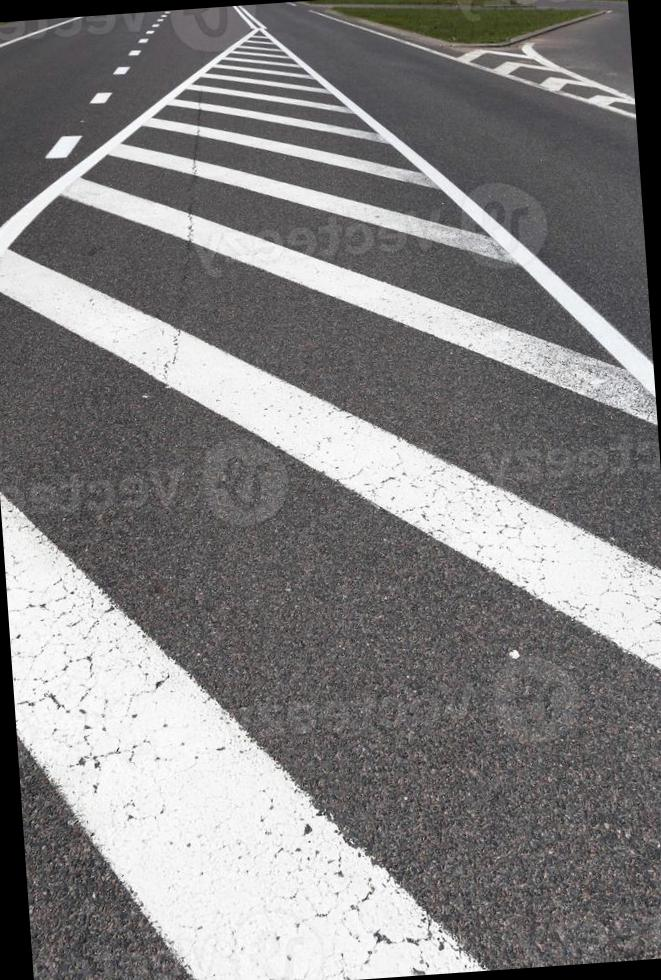faded_road_lines: (0, 251, 661, 668), (1, 496, 463, 980), (64, 179, 657, 423), (109, 142, 511, 264), (413, 15, 637, 148), (145, 99, 435, 186), (188, 22, 368, 127), (163, 97, 388, 142)
